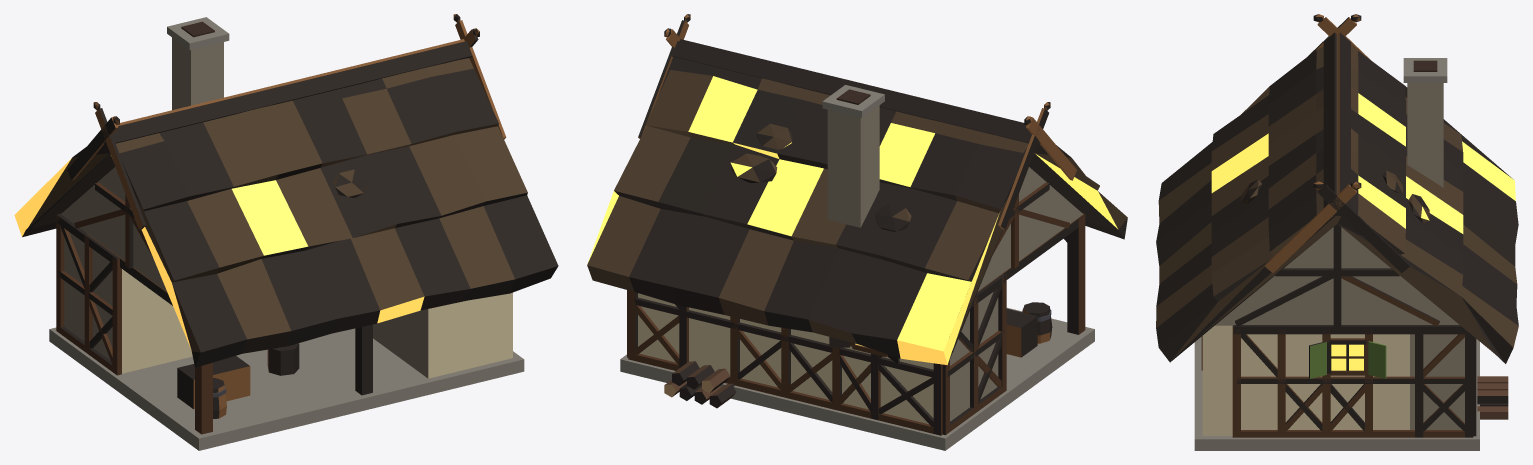
File: Dorf_Schmiede_Beschaedigt.fbx
The picture shows the model from 3 angles, left to right: view 1: azimuth 30°, elevation 25°; view 2: azimuth 150°, elevation 25°; view 3: azimuth 270°, elevation 25°; orthographic projection. The views are drawn at different scales.
Parts seen in each view (by area): view 1: Dorf_Schmiede_Beschaedigt; view 2: Dorf_Schmiede_Beschaedigt; view 3: Dorf_Schmiede_Beschaedigt.
Part boxes in pixels (box(x1,y1,x2,y2)): Dorf_Schmiede_Beschaedigt: box(14, 14, 558, 450); Dorf_Schmiede_Beschaedigt: box(587, 14, 1127, 450); Dorf_Schmiede_Beschaedigt: box(1156, 14, 1518, 450).
Size of the model in its own units: 7.73 by 6.17 by 7.
